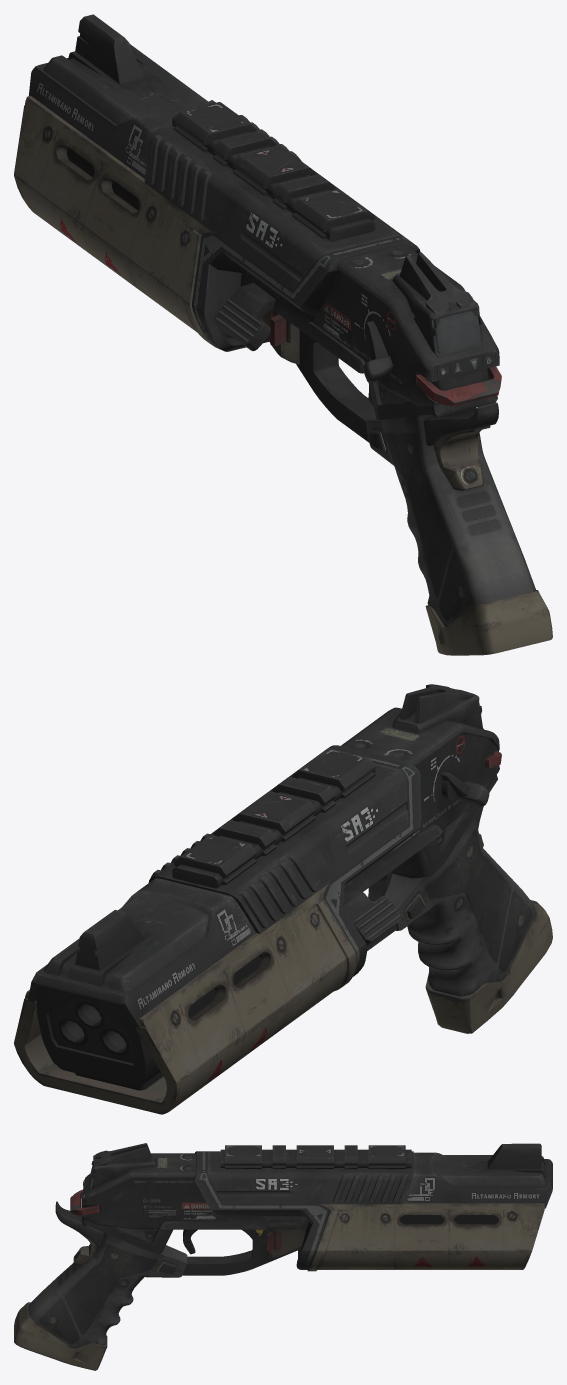
The model's file is mozambique.glb.
3 views of the same model, one above another, from view 1: azimuth 30°, elevation 25°; view 2: azimuth 150°, elevation 25°; view 3: azimuth 270°, elevation 25° (orthographic). The views are drawn at different scales.
Parts seen in each view (by area): view 1: MOZAMBIQUE; view 2: MOZAMBIQUE; view 3: MOZAMBIQUE.
Boxes of the visible parts, <box> form: MOZAMBIQUE: <box>14,14,552,655</box>; MOZAMBIQUE: <box>14,684,552,1114</box>; MOZAMBIQUE: <box>14,1143,552,1370</box>.
Bounding box in the file's own units: 0.0821 × 0.1726 × 0.381.
Materials: 1 (1 with a texture image).
